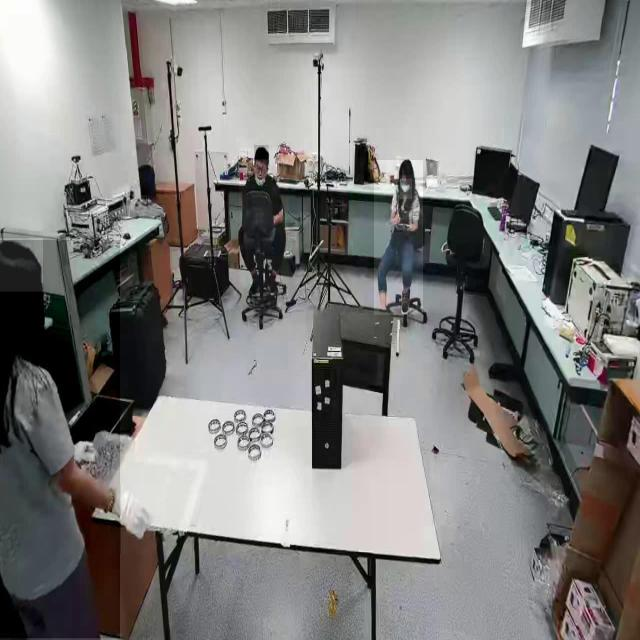face_mask: (400, 179, 412, 199)
face_nomask: (254, 160, 268, 179)
hand_glove: (108, 484, 166, 554)
head_nohelmet: (0, 238, 44, 292), (399, 158, 413, 176), (254, 145, 269, 160)
person: (0, 240, 120, 639), (239, 148, 289, 310), (374, 160, 424, 316)
shoes: (398, 287, 414, 317), (268, 272, 282, 300), (248, 272, 263, 298)
